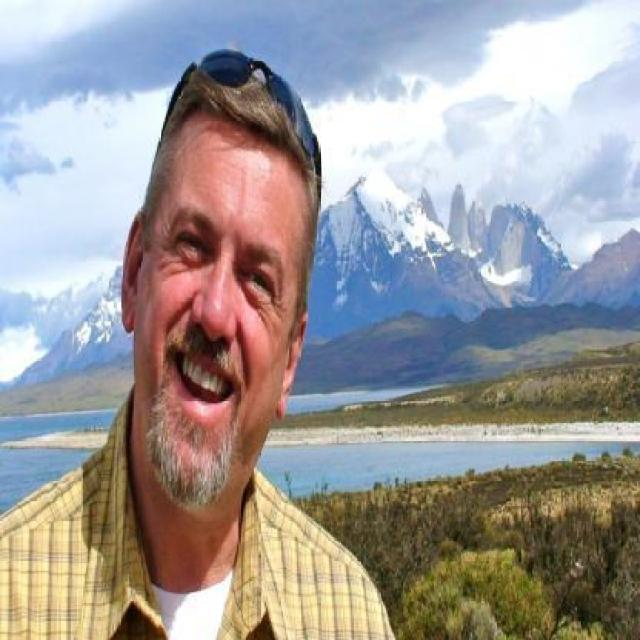face_nomask: (142, 200, 288, 422)
head_nohelmet: (152, 31, 340, 175)
